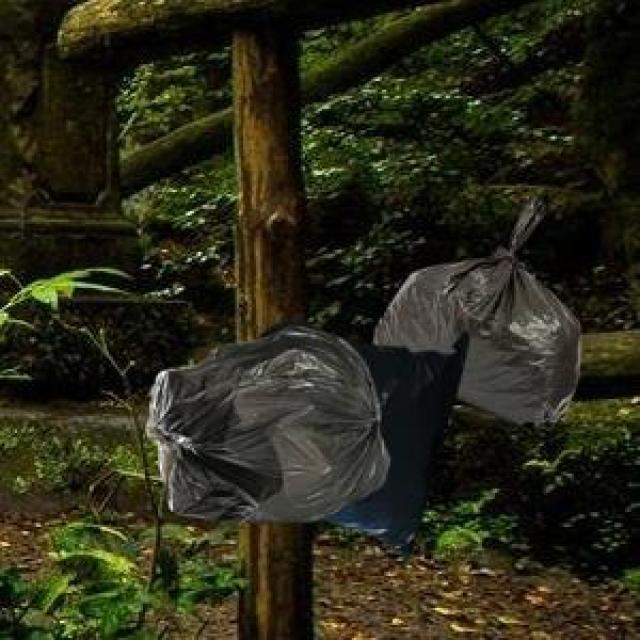waste: (148, 202, 580, 546)
